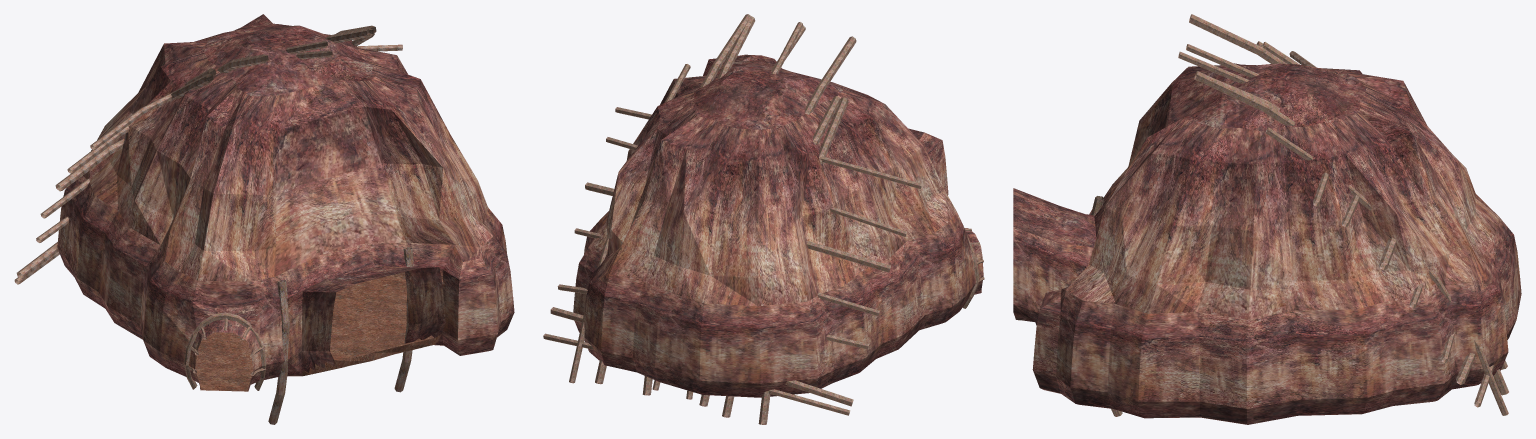
The model's file is thm_dath_night_sister_stronghold_r7_mesh_r7.fbx.
3 views of the same model, side by side, from view 1: azimuth 30°, elevation 25°; view 2: azimuth 150°, elevation 25°; view 3: azimuth 270°, elevation 25° (orthographic). The views are drawn at different scales.
Parts seen in each view (by area): view 1: mesh_node; view 2: mesh_node; view 3: mesh_node.
Part boxes in pixels (x1,y1,x2,y2): mesh_node: (14,14,514,424); mesh_node: (543,14,984,424); mesh_node: (1013,14,1521,424).
Bounding box in the file's own units: 18.64 × 16.49 × 21.62.
